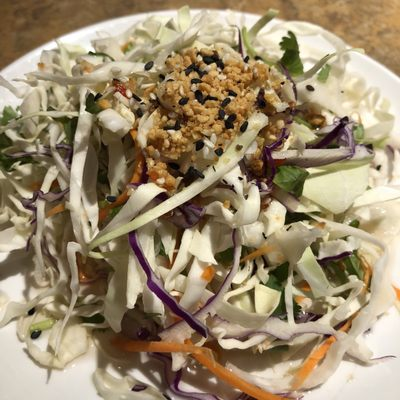sushi: (7, 1, 399, 398)
